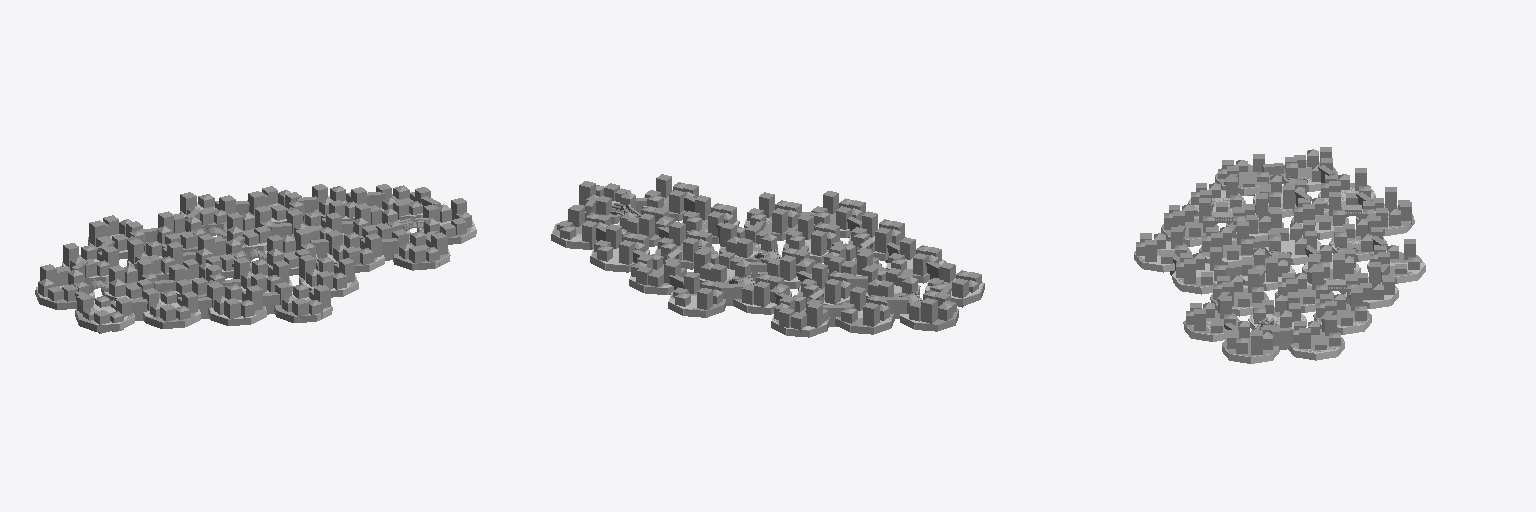
Rendered from venice2.obj.
3 renders of one model, left to right at view 1: azimuth 30°, elevation 25°; view 2: azimuth 150°, elevation 25°; view 3: azimuth 270°, elevation 25°, orthographic.
Parts seen in each view (by area): view 1: Track_Cube.456, Hitbox_Cube.044; view 2: Track_Cube.456, Hitbox_Cube.044; view 3: Track_Cube.456, Hitbox_Cube.044.
Part boxes in pixels (x1,y1,x2,y2): Track_Cube.456: (35, 184, 473, 333); Hitbox_Cube.044: (37, 192, 476, 329); Track_Cube.456: (553, 174, 984, 337); Hitbox_Cube.044: (551, 196, 983, 335); Track_Cube.456: (1134, 147, 1422, 356); Hitbox_Cube.044: (1134, 161, 1425, 363).
Size of the model in its own units: 21.69 by 1.75 by 13.55.